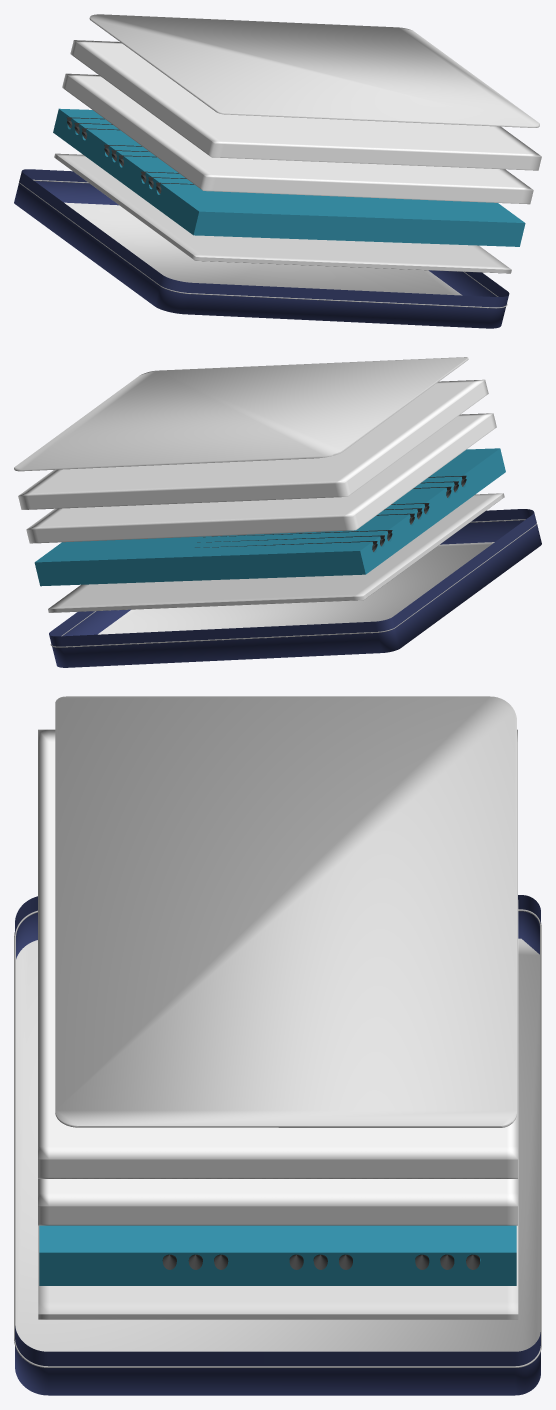
File: Amenity_ET.glb
The picture shows the model from 3 angles, top to bottom: view 1: azimuth 30°, elevation 25°; view 2: azimuth 150°, elevation 25°; view 3: azimuth 270°, elevation 25°; orthographic projection. The views are drawn at different scales.
Visible parts, largest first — view 1: Cube.124, Cube.125, Cube.123, Cube.127, Cube.126, Cube.128; view 2: Cube.124, Cube.125, Cube.123, Cube.127, Cube.126, Cube.128; view 3: Cube.124, Cube.125, Cube.127, Cube.123, Cube.126, Cube.128.
Boxes of the visible parts, <box> form: Cube.124: <box>89,14,539,127</box>; Cube.125: <box>14,169,509,328</box>; Cube.123: <box>53,108,525,246</box>; Cube.127: <box>70,40,541,170</box>; Cube.126: <box>62,73,533,204</box>; Cube.128: <box>54,153,511,273</box>; Cube.124: <box>14,357,468,471</box>; Cube.125: <box>49,509,541,667</box>; Cube.123: <box>34,448,505,586</box>; Cube.127: <box>18,379,488,509</box>; Cube.126: <box>26,413,496,543</box>; Cube.128: <box>48,493,504,612</box>; Cube.124: <box>55,696,516,1127</box>; Cube.125: <box>14,895,541,1395</box>; Cube.127: <box>38,729,517,1178</box>; Cube.123: <box>39,1225,516,1285</box>; Cube.126: <box>38,1179,517,1225</box>; Cube.128: <box>38,900,518,1319</box>.
Bounding box in the file's own units: 16.08 × 10.78 × 11.01.
9 materials, 1 textured.
